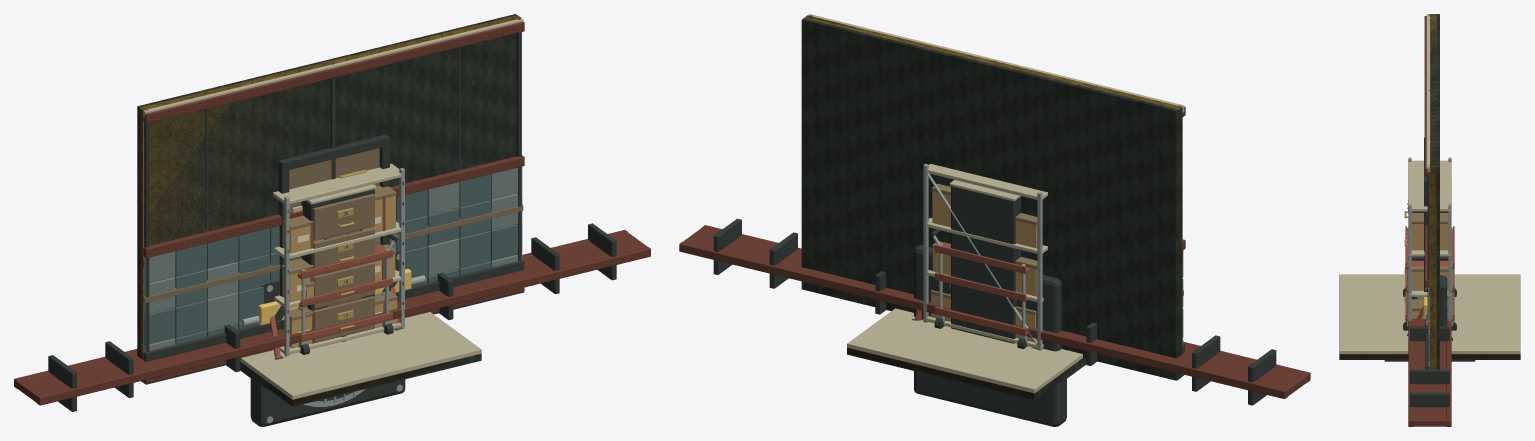
The model's file is backrooms-annex.glb.
The picture shows the model from 3 angles, left to right: view 1: azimuth 30°, elevation 25°; view 2: azimuth 150°, elevation 25°; view 3: azimuth 270°, elevation 25°; orthographic projection. The views are drawn at different scales.
Visible parts, largest first — view 1: Annex_tiledwall, Annex_transferbeam, Annex_wall, Annex_ceiling, Annex_rack, Annex_cabinet, Annex_concretewall, Annex_door, Annex_ventilator, Annex_cart, Annex_barrier, Annex_carpet (+1 smaller); view 2: Annex_concretewall, Annex_transferbeam, Annex_ceiling, Annex_cabinet, Annex_rack, Annex_ventilator, Annex_cart, Annex_wall, Annex_carpet, Annex_cementfloor, Annex_tiledwall; view 3: Annex_ceiling, Annex_transferbeam, Annex_rack, Annex_wall, Annex_concretewall, Annex_tiledwall, Annex_cart, Annex_carpet, Annex_ventilator, Annex_door, Annex_cabinet.
Boxes of the visible parts, <box> form: Annex_tiledwall: <box>138,15,524,383</box>; Annex_transferbeam: <box>14,223,650,411</box>; Annex_wall: <box>139,15,524,384</box>; Annex_ceiling: <box>240,312,481,399</box>; Annex_rack: <box>273,163,404,356</box>; Annex_cabinet: <box>301,184,376,342</box>; Annex_concretewall: <box>137,14,524,361</box>; Annex_door: <box>278,134,389,329</box>; Annex_ventilator: <box>250,249,405,426</box>; Annex_cart: <box>297,234,398,354</box>; Annex_barrier: <box>258,268,411,359</box>; Annex_carpet: <box>241,353,481,405</box>; Annex_concretewall: <box>801,15,1184,380</box>; Annex_transferbeam: <box>679,218,1310,405</box>; Annex_ceiling: <box>847,308,1082,393</box>; Annex_cabinet: <box>949,180,1021,343</box>; Annex_rack: <box>923,163,1047,350</box>; Annex_ventilator: <box>914,245,1066,426</box>; Annex_cart: <box>930,229,1029,348</box>; Annex_wall: <box>804,14,1184,378</box>; Annex_carpet: <box>847,347,1082,399</box>; Annex_cementfloor: <box>847,353,1086,400</box>; Annex_tiledwall: <box>803,15,1185,379</box>; Annex_ceiling: <box>1339,274,1520,354</box>; Annex_transferbeam: <box>1408,318,1451,426</box>; Annex_rack: <box>1408,157,1451,320</box>; Annex_wall: <box>1426,14,1436,369</box>; Annex_concretewall: <box>1425,14,1439,369</box>; Annex_tiledwall: <box>1424,14,1437,369</box>; Annex_cart: <box>1403,226,1456,330</box>; Annex_carpet: <box>1339,354,1520,359</box>; Annex_ventilator: <box>1417,275,1447,326</box>; Annex_door: <box>1424,137,1427,291</box>; Annex_cabinet: <box>1404,178,1451,302</box>.
Size of the model in its own units: 7.75 by 4.2 by 2.4.
23 materials, 4 textured.
